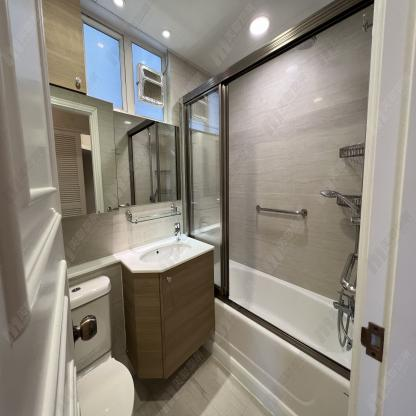Bathtub: (202, 257, 355, 416)
Exhaust Fan: (136, 63, 164, 110)
Faucet: (174, 221, 182, 242)
Toilet: (68, 275, 135, 416)
Toilet Sink: (115, 234, 215, 270)
